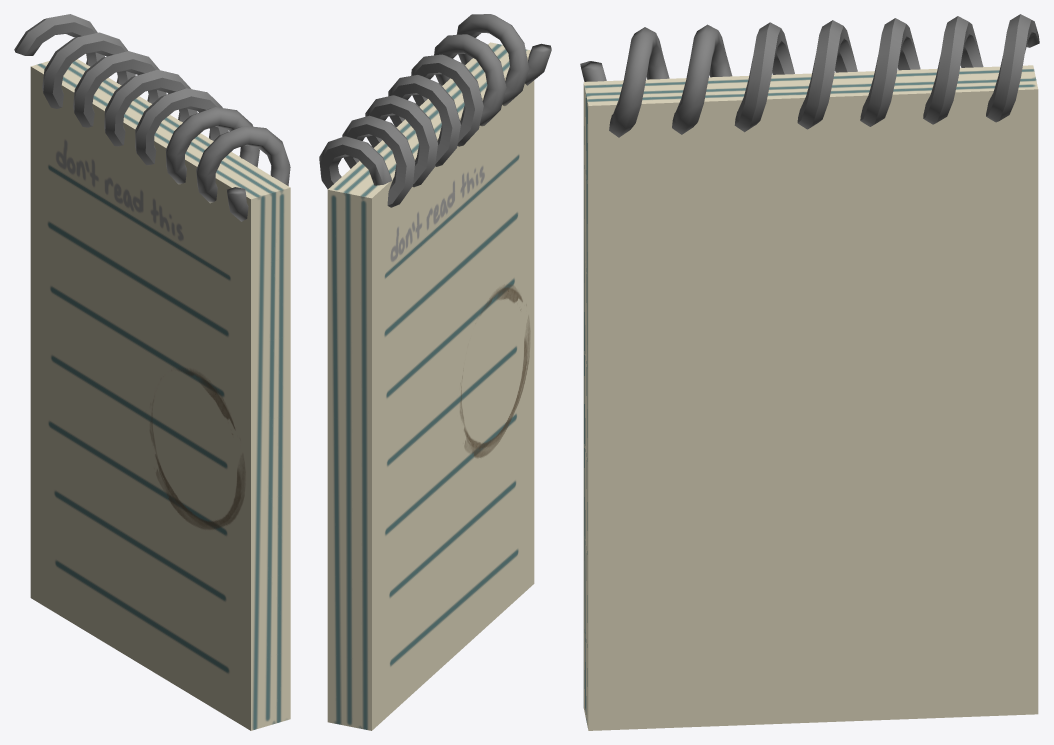
Rendered from Friday_notebook.fbx.
3 renders of one model, left to right at view 1: azimuth 30°, elevation 25°; view 2: azimuth 150°, elevation 25°; view 3: azimuth 270°, elevation 25°, orthographic. The views are drawn at different scales.
Visible parts, largest first — view 1: notebook; view 2: notebook; view 3: notebook.
Part boxes in pixels (x1,y1,x2,y2): notebook: (14,14,290,730); notebook: (319,14,551,730); notebook: (580,14,1039,730).
Size of the model in its own units: 6.72 by 35.34 by 21.5.
